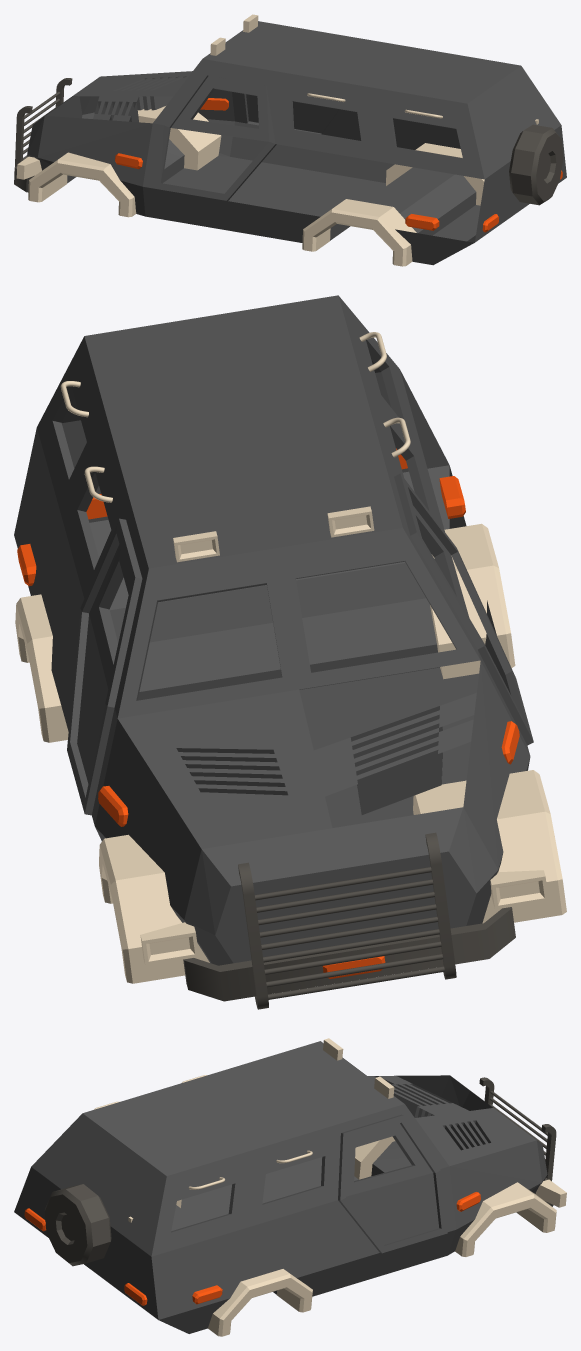
Rendered from 04 Broken_car.FBX.
The picture shows the model from 3 angles, top to bottom: view 1: azimuth 30°, elevation 25°; view 2: azimuth 150°, elevation 25°; view 3: azimuth 270°, elevation 25°; orthographic projection. The views are drawn at different scales.
Visible parts, largest first — view 1: Broken_car; view 2: Broken_car; view 3: Broken_car.
Part boxes in pixels (bbox=[...]): Broken_car: bbox=[14, 14, 566, 266]; Broken_car: bbox=[14, 295, 566, 1009]; Broken_car: bbox=[14, 1038, 566, 1336].
Bounding box in the file's own units: 2414 × 990 × 2684.
